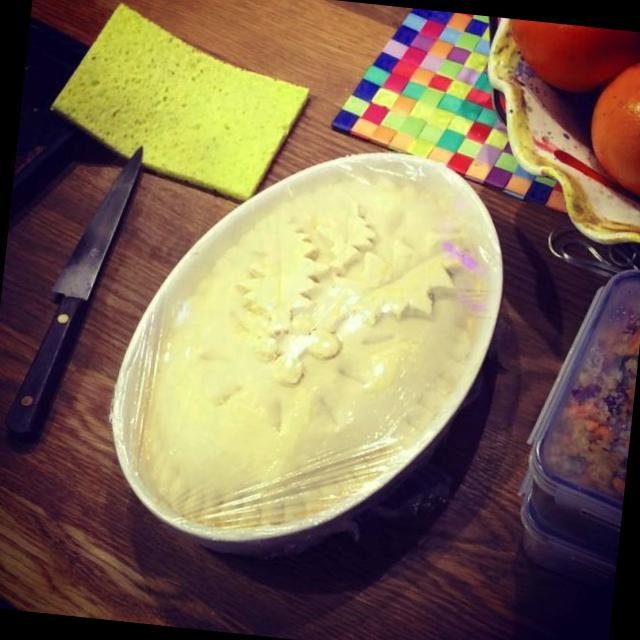Knife: (6, 147, 142, 439)
